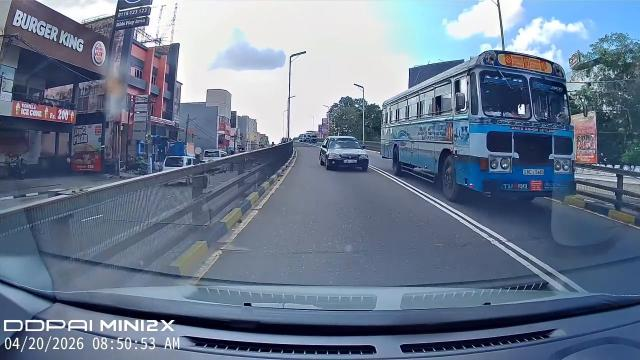illegal overtaking: (321, 134, 375, 185)
number plate: (520, 165, 550, 177), (340, 157, 359, 165)
